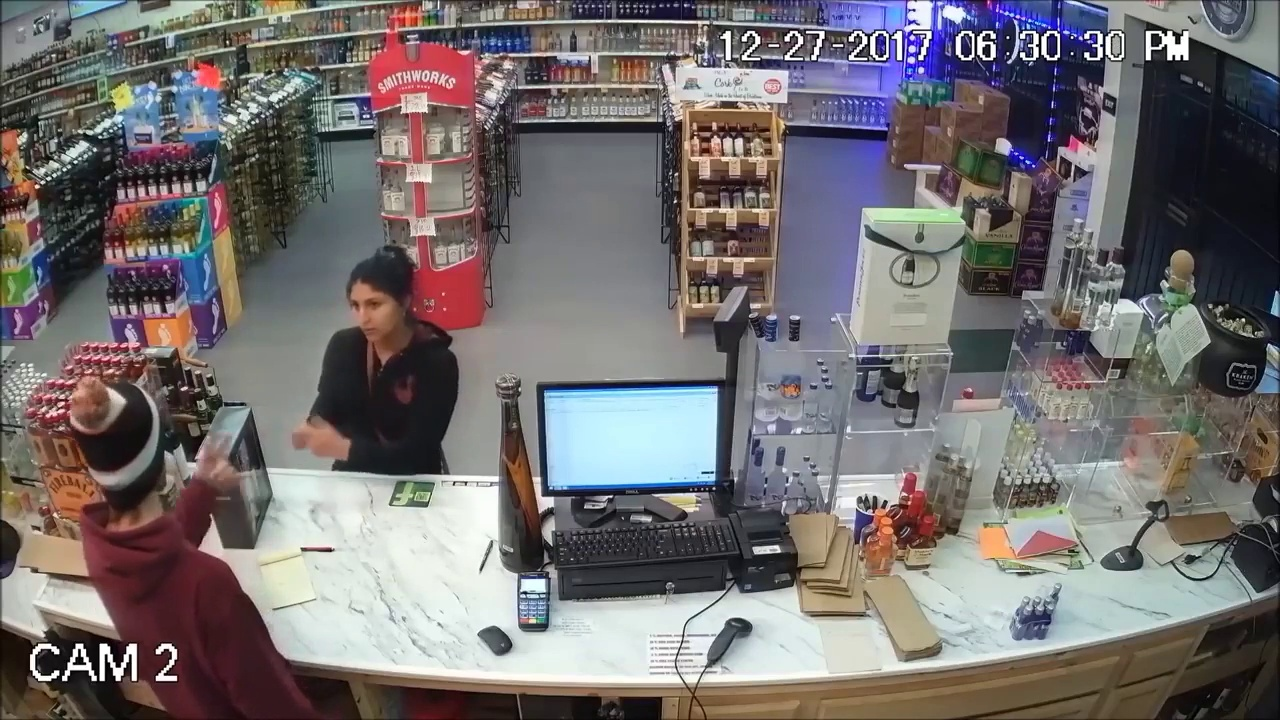face: (346, 282, 404, 343)
